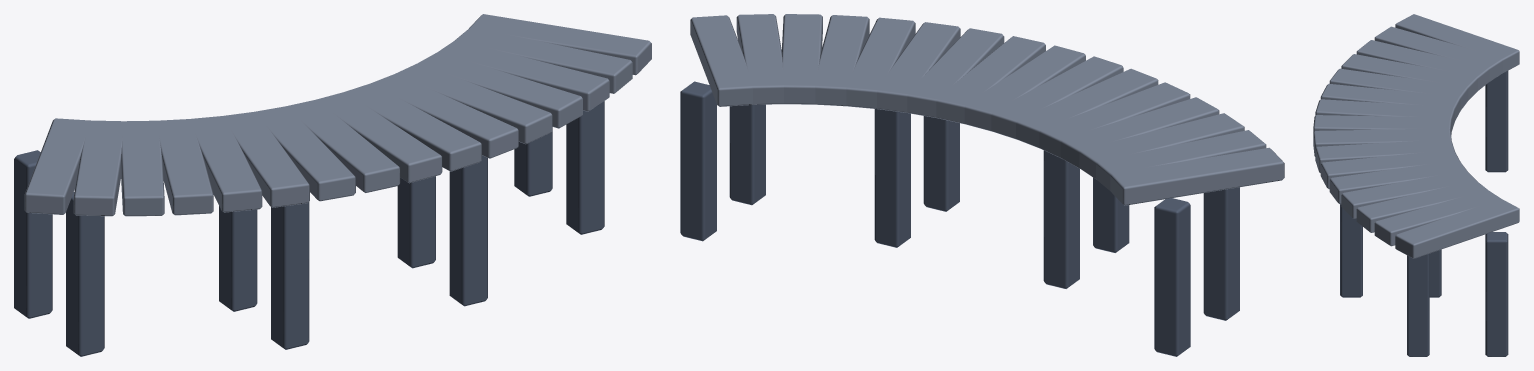
The model's file is 弧形景观长凳-lite.glb.
3 renders of one model, left to right at view 1: azimuth 30°, elevation 25°; view 2: azimuth 150°, elevation 25°; view 3: azimuth 270°, elevation 25°, orthographic. The views are drawn at different scales.
Visible parts, largest first — view 1: garden-bench-curved; view 2: garden-bench-curved; view 3: garden-bench-curved.
Boxes of the visible parts, x1,y1,x2,y2 form: garden-bench-curved: (14,14,651,356); garden-bench-curved: (680,14,1284,356); garden-bench-curved: (1313,14,1519,356).
Bounding box in the file's own units: 1.8 × 0.4801 × 0.68.
